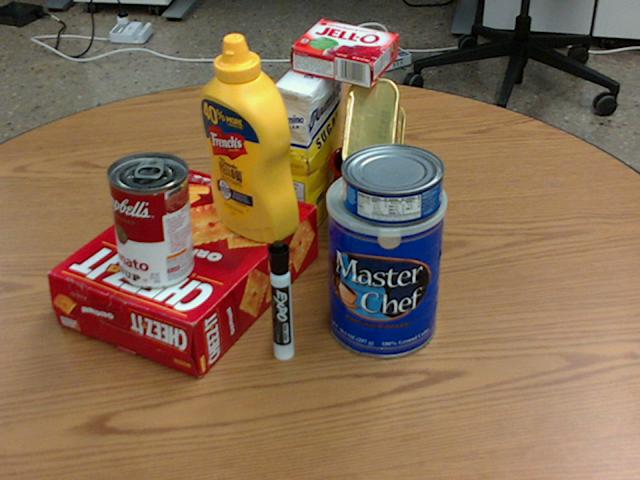cracker_box: (50, 173, 318, 378)
gelatin_box: (288, 20, 398, 87)
large_marker: (269, 240, 294, 360)
master_chef_can: (324, 164, 444, 356)
mug: (331, 139, 441, 243)
mustard_bottle: (199, 33, 298, 241)
potted_meat_can: (341, 78, 404, 194)
sugar_box: (274, 51, 343, 240)
tomato_soup_can: (107, 151, 194, 288)
tuna_fish_can: (341, 142, 444, 224)
